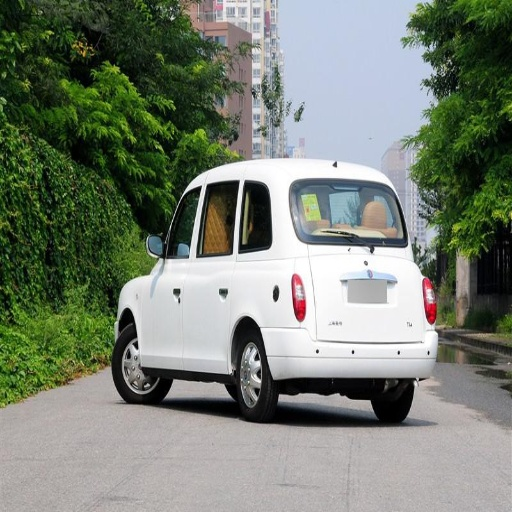back_bumper: (277, 314, 436, 379)
back_glass: (292, 181, 404, 245)
back_left_door: (185, 179, 252, 368)
trunk: (245, 247, 425, 359)
